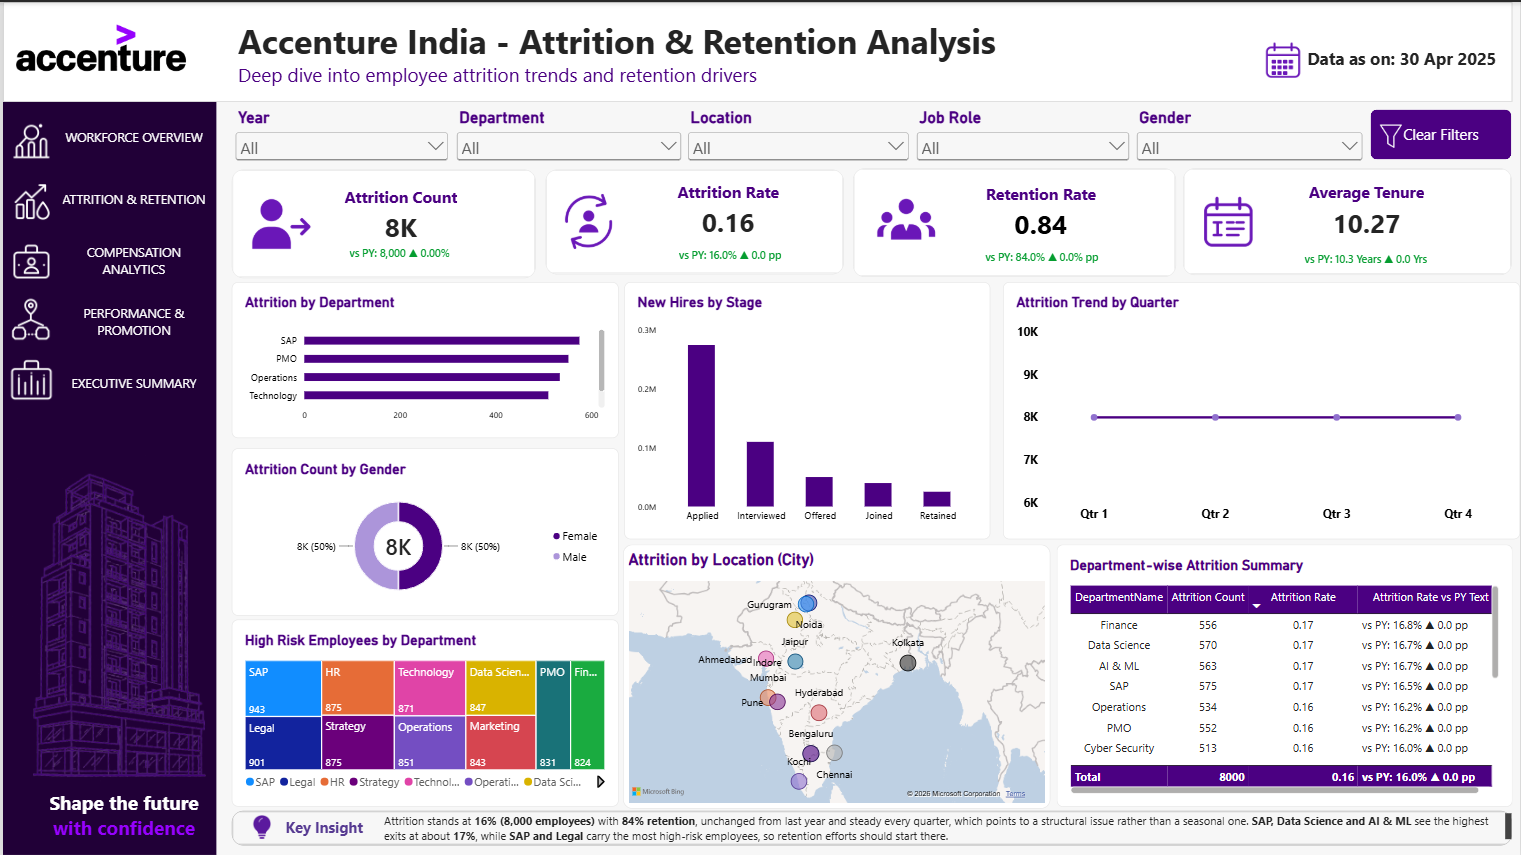

What the dashboard file says about the page in this screenshot:
{"tool":"powerbi","page":{"name":"ATTRITION & RETENTION","canvas":[1920,1080],"ordinal":1},"visuals":[{"type":"shape","box":[0,26,270,1054],"z":0},{"type":"shape","box":[0,0,1910,126.7],"z":1000},{"type":"group","id":"g1","title":"Group 2","box":[11.4,10,1899.3,116.7],"z":2000},{"type":"image","box":[2,512,290,540],"z":2000,"group":"g3"},{"type":"image","box":[11.4,10,225.7,104.3],"z":3000,"group":"g1"},{"type":"group","id":"g2","title":"Group 1","box":[0,126.7,270,395.3],"z":3000},{"type":"textbox","box":[297.4,20,1613.3,106.7],"z":4000,"group":"g1"},{"type":"group","id":"g3","title":"Group 3","box":[2,512,290,568],"z":4000},{"type":"slicer","fields":{"Values":["DimDate.Year"]},"box":[290,135,278.8,78.8],"z":5000},{"type":"textbox","box":[1631.6,56.7,278.3,38.3],"z":6000,"group":"g1"},{"type":"slicer","fields":{"Values":["DimJobLevel.JobLevel"]},"box":[1151.2,135,278.8,78.8],"z":6000},{"type":"slicer","fields":{"Values":["DimLocation.City"]},"box":[862.5,135,288.8,91.2],"z":7000},{"type":"textbox","box":[35.3,995.7,236.7,85],"z":7000,"group":"g3"},{"type":"image","box":[0,126.7,71.7,100],"z":8000,"group":"g2"},{"type":"slicer","fields":{"Values":["DimEmployee.Gender"]},"box":[1430,135,295,78.8],"z":8000},{"type":"slicer","fields":{"Values":["DimDepartment.DepartmentName"]},"box":[568.8,135,293.8,78.8],"z":9000},{"type":"image","box":[1.7,213.4,71.7,76.7],"z":9000,"group":"g2"},{"type":"shape","box":[290,212.5,385,137.5],"z":10000},{"type":"image","box":[0,290,71.7,75],"z":10000,"group":"g2"},{"type":"shape","box":[686.2,212.5,377.5,132.5],"z":11000},{"type":"image","box":[0,365,70,73.3],"z":11000,"group":"g2"},{"type":"shape","box":[1492.5,210,416.2,135],"z":12000},{"type":"image","box":[0,435,71.7,85],"z":12000,"group":"g2"},{"type":"shape","box":[1075,210,408.8,137.5],"z":13000},{"type":"pageNavigator","box":[62,136,208,386],"z":14000,"group":"g2"},{"type":"image","box":[308.8,233.8,87.1,94.3],"z":14000},{"type":"image","box":[697.5,231.2,87.1,94.3],"z":15000},{"type":"image","box":[1100,230,87.1,94.3],"z":16000},{"type":"image","box":[1510,232.5,80,93.3],"z":17000},{"type":"shape","box":[290,1024,1620,44],"z":18000},{"type":"cardVisual","fields":{"Data":["DimDate.Attrition Count"]},"box":[396.2,230,213.8,81.2],"z":19000},{"type":"cardVisual","fields":{"Data":["DimDate.Line Attrition Count"]},"box":[408.5,301.7,187.5,30],"z":20000},{"type":"cardVisual","fields":{"Data":["DimDate.Attrition Rate"]},"box":[797.5,230,241.7,68.3],"z":21000},{"type":"cardVisual","fields":{"Data":["DimDate.Line Attrition Rate"]},"box":[831.2,293.8,176.7,51.7],"z":22000},{"type":"cardVisual","fields":{"Data":["DimDate.Average Tenure vs PY Text KPI 4"]},"box":[1626.2,312.5,197.5,22.5],"z":23000},{"type":"cardVisual","fields":{"Data":["DimDate.Average Tenure"]},"box":[1605,226.2,240,76],"z":24000},{"type":"cardVisual","fields":{"Data":["DimDate.Retention Rate vs PY Text"]},"box":[1206.2,311.2,215,20],"z":25000},{"type":"cardVisual","fields":{"Data":["DimDate.Retention Rate"]},"box":[1187.5,225,251.7,83.3],"z":26000},{"type":"image","box":[1576.2,43.8,85,60],"z":27000},{"type":"barChart","title":"\tAttrition by Department","fields":{"Category":["DimDepartment.DepartmentName"],"Y":["DimDate.Attrition Count"]},"box":[290,354.3,489.3,197.9],"z":28000},{"type":"columnChart","fields":{"Category":["FactRecruitment.Stage"],"Y":["DimDate.New Hires"]},"box":[785.9,354.1,462.9,325.9],"z":29000},{"type":"map","title":"Attrition by Location (City)","fields":{"Category":["DimLocation.City"],"Size":["DimDate.Attrition Count"]},"box":[785.3,685.9,541.2,334.1],"z":30000},{"type":"treemap","title":"High Risk Employees by Department","fields":{"Group":["DimDepartment.DepartmentName"],"Values":["DimDate.High Risk Employees"]},"box":[290,781.4,489.3,237.1],"z":31000},{"type":"donutChart","fields":{"Category":["DimEmployee.Gender"],"Y":["DimDate.Attrition Count"]},"box":[290,564.3,489.3,212.1],"z":32000},{"type":"lineChart","title":"Attrition Trend by Quarter","fields":{"Category":["DimDate.Date.Variation.Date Hierarchy.Year","DimDate.Date.Variation.Date Hierarchy.Quarter","DimDate.Date.Variation.Date Hierarchy.Month"],"Y":["DimDate.Attrition Count"]},"box":[1265.6,354.2,654.4,325.4],"z":33000},{"type":"tableEx","title":"Department-wise Attrition Summary","fields":{"Values":["DimDepartment.DepartmentName","DimDate.Attrition Count","DimDate.Attrition Rate","DimDate.Attrition Rate vs PY Text"]},"box":[1333.5,685.9,576.5,332.4],"z":34000},{"type":"actionButton","box":[1730.8,135.8,178.3,63.3],"z":35000},{"type":"image","box":[1736.3,154.7,41.1,29.5],"z":36000},{"type":"textbox","box":[482,1026,1426,42],"z":37000},{"type":"textbox","box":[358,1032,100,28],"z":38000},{"type":"image","box":[304,1026,48,34],"z":39000}]}

Visuals, with their boxes in screenshot pixels (x1, y1, x2, y2), scaled from the page's 1920x1080 canvas onto the 1521x855 screenshot:
shape: bbox=[0, 21, 214, 854]
shape: bbox=[0, 0, 1513, 100]
"Group 2" group: bbox=[9, 8, 1514, 100]
image: bbox=[2, 405, 231, 833]
image: bbox=[9, 8, 188, 90]
"Group 1" group: bbox=[0, 100, 214, 413]
textbox: bbox=[236, 16, 1514, 100]
"Group 3" group: bbox=[2, 405, 231, 854]
slicer - DimDate.Year: bbox=[230, 107, 451, 169]
textbox: bbox=[1293, 45, 1513, 75]
slicer - DimJobLevel.JobLevel: bbox=[912, 107, 1133, 169]
slicer - DimLocation.City: bbox=[683, 107, 912, 179]
textbox: bbox=[28, 788, 215, 854]
image: bbox=[0, 100, 57, 179]
slicer - DimEmployee.Gender: bbox=[1133, 107, 1367, 169]
slicer - DimDepartment.DepartmentName: bbox=[451, 107, 683, 169]
image: bbox=[1, 169, 58, 230]
shape: bbox=[230, 168, 535, 277]
image: bbox=[0, 230, 57, 289]
shape: bbox=[544, 168, 843, 273]
image: bbox=[0, 289, 55, 347]
shape: bbox=[1182, 166, 1512, 273]
image: bbox=[0, 344, 57, 412]
shape: bbox=[852, 166, 1175, 275]
pageNavigator: bbox=[49, 108, 214, 413]
image: bbox=[245, 185, 314, 260]
image: bbox=[553, 183, 622, 258]
image: bbox=[871, 182, 940, 257]
image: bbox=[1196, 184, 1260, 258]
shape: bbox=[230, 811, 1513, 846]
cardVisual - DimDate.Attrition Count: bbox=[314, 182, 483, 246]
cardVisual - DimDate.Line Attrition Count: bbox=[324, 239, 472, 263]
cardVisual - DimDate.Attrition Rate: bbox=[632, 182, 823, 236]
cardVisual - DimDate.Line Attrition Rate: bbox=[658, 233, 798, 274]
cardVisual - DimDate.Average Tenure vs PY Text KPI 4: bbox=[1288, 247, 1445, 265]
cardVisual - DimDate.Average Tenure: bbox=[1271, 179, 1462, 239]
cardVisual - DimDate.Retention Rate vs PY Text: bbox=[956, 246, 1126, 262]
cardVisual - DimDate.Retention Rate: bbox=[941, 178, 1140, 244]
image: bbox=[1249, 35, 1316, 82]
"	Attrition by Department" barChart: bbox=[230, 280, 617, 437]
columnChart - FactRecruitment.Stage x DimDate.New Hires: bbox=[623, 280, 989, 538]
"Attrition by Location (City)" map: bbox=[622, 543, 1051, 808]
"High Risk Employees by Department" treemap: bbox=[230, 619, 617, 806]
donutChart - DimEmployee.Gender x DimDate.Attrition Count: bbox=[230, 447, 617, 615]
"Attrition Trend by Quarter" lineChart: bbox=[1003, 280, 1520, 538]
"Department-wise Attrition Summary" tableEx: bbox=[1056, 543, 1513, 806]
actionButton: bbox=[1371, 108, 1512, 158]
image: bbox=[1375, 122, 1408, 146]
textbox: bbox=[382, 812, 1511, 846]
textbox: bbox=[284, 817, 363, 839]
image: bbox=[241, 812, 279, 839]
